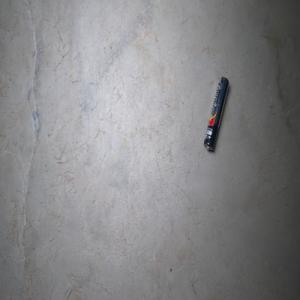Battery: (203, 75, 229, 151)
